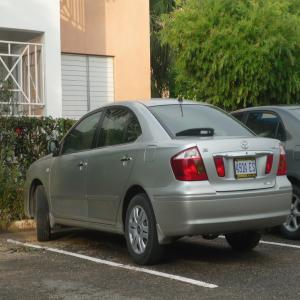Vehicle-registration-plate: (235, 157, 259, 180)
